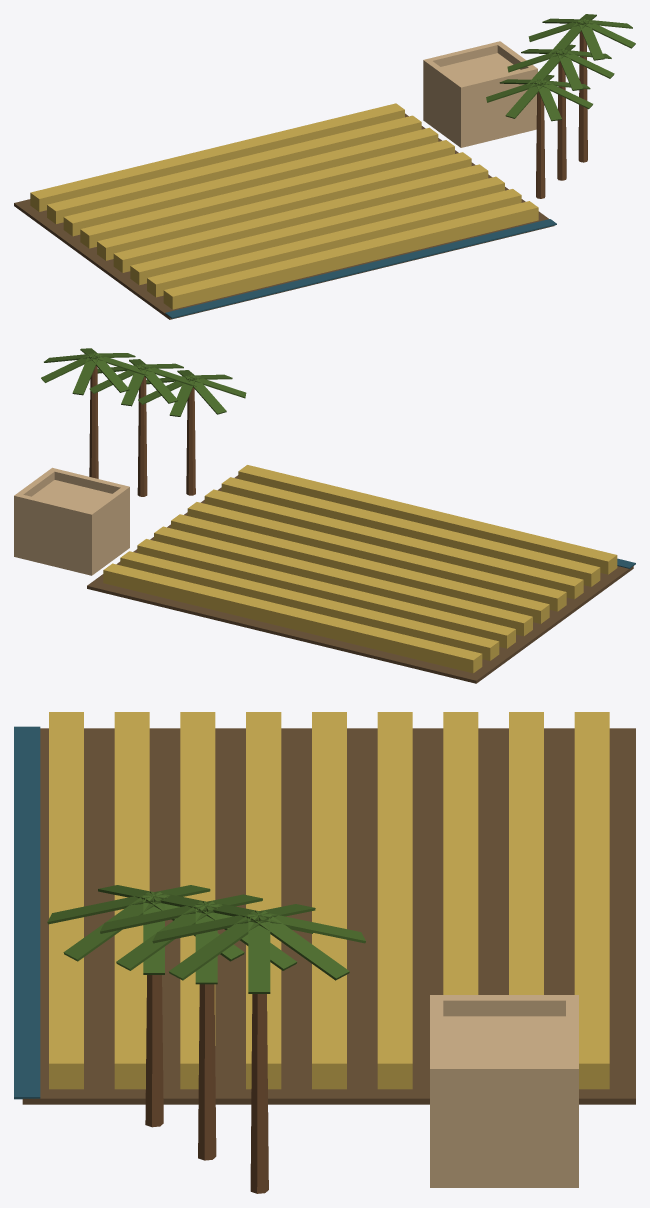
File: farm.glb
3 views of the same model, one above another, from view 1: azimuth 30°, elevation 25°; view 2: azimuth 150°, elevation 25°; view 3: azimuth 270°, elevation 25° (orthographic). The views are drawn at different scales.
Visible parts, largest first — view 1: Farm; view 2: Farm; view 3: Farm.
Boxes of the visible parts, x1,y1,x2,y2 form: Farm: (14, 14, 635, 319); Farm: (14, 348, 635, 683); Farm: (14, 712, 635, 1193).
Size of the model in its own units: 27.05 by 6.93 by 14.2.
